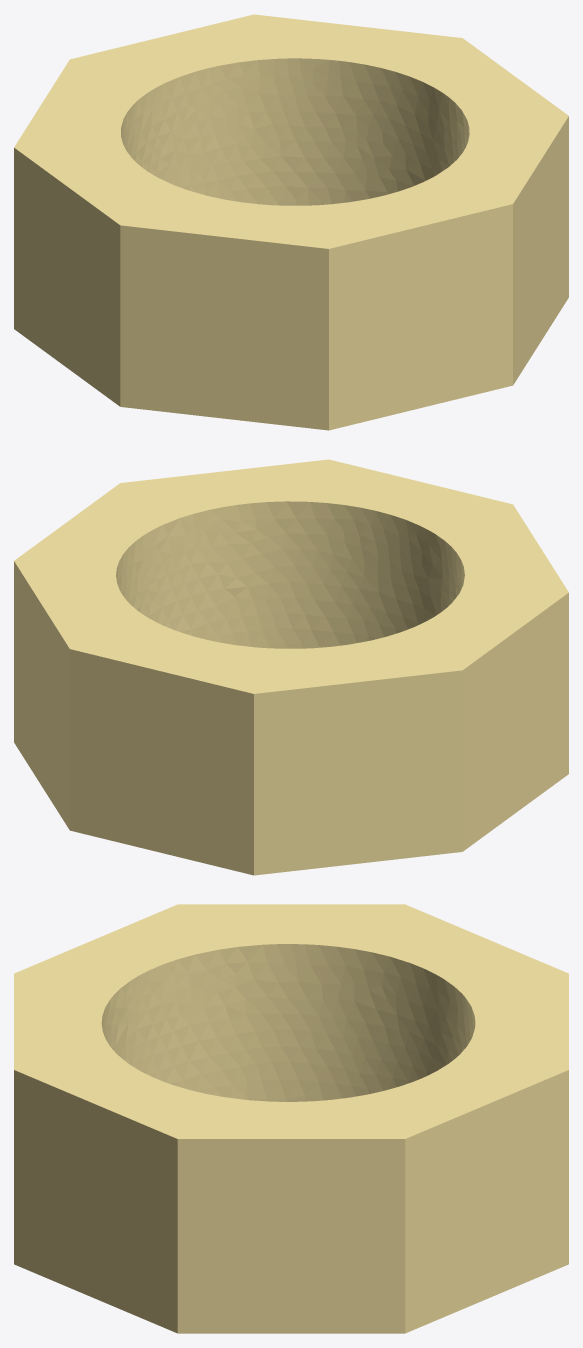
File: input.gltf
3 renders of one model, top to bottom at view 1: azimuth 30°, elevation 25°; view 2: azimuth 150°, elevation 25°; view 3: azimuth 270°, elevation 25°, orthographic. The views are drawn at different scales.
Visible parts, largest first — view 1: Renderer Node; view 2: Renderer Node; view 3: Renderer Node.
Boxes of the visible parts, x1,y1,x2,y2 form: Renderer Node: (14, 14, 568, 430); Renderer Node: (14, 459, 568, 875); Renderer Node: (14, 904, 568, 1333).
Bounding box in the file's own units: 0.5859 × 0.2266 × 0.5859.
